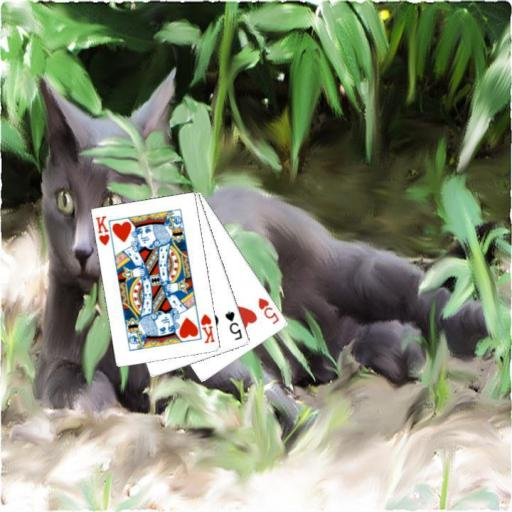5H: (255, 295, 281, 326)
5S: (222, 308, 244, 342)
KH: (93, 213, 112, 248), (198, 311, 216, 345)
